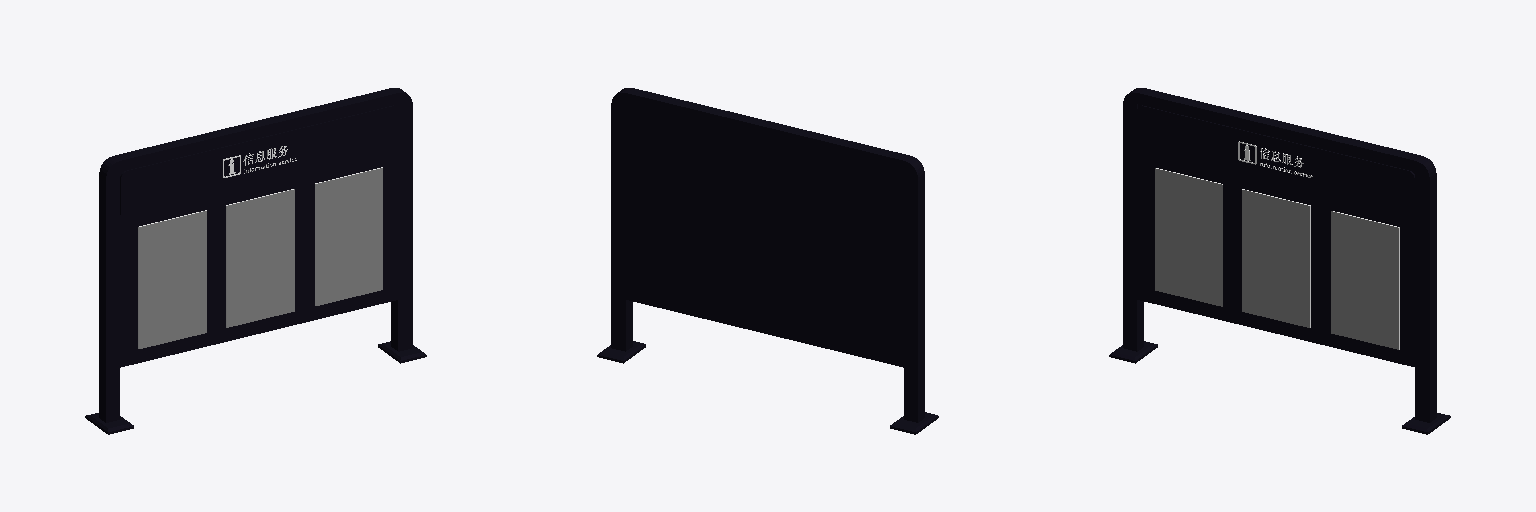
The picture shows the model from 3 angles: view 1: azimuth 30°, elevation 25°; view 2: azimuth 150°, elevation 25°; view 3: azimuth 330°, elevation 25°; orthographic projection.
Parts seen in each view (by area): view 1: bdl_1l_xinxifuwu; view 2: bdl_1l_xinxifuwu; view 3: bdl_1l_xinxifuwu.
Part boxes in pixels (x1,y1,x2,y2): bdl_1l_xinxifuwu: (85, 88, 426, 434); bdl_1l_xinxifuwu: (597, 88, 938, 434); bdl_1l_xinxifuwu: (1109, 88, 1450, 434).
Size of the model in its own units: 296 by 234 by 36.71.
Materials: 4 (2 with a texture image).